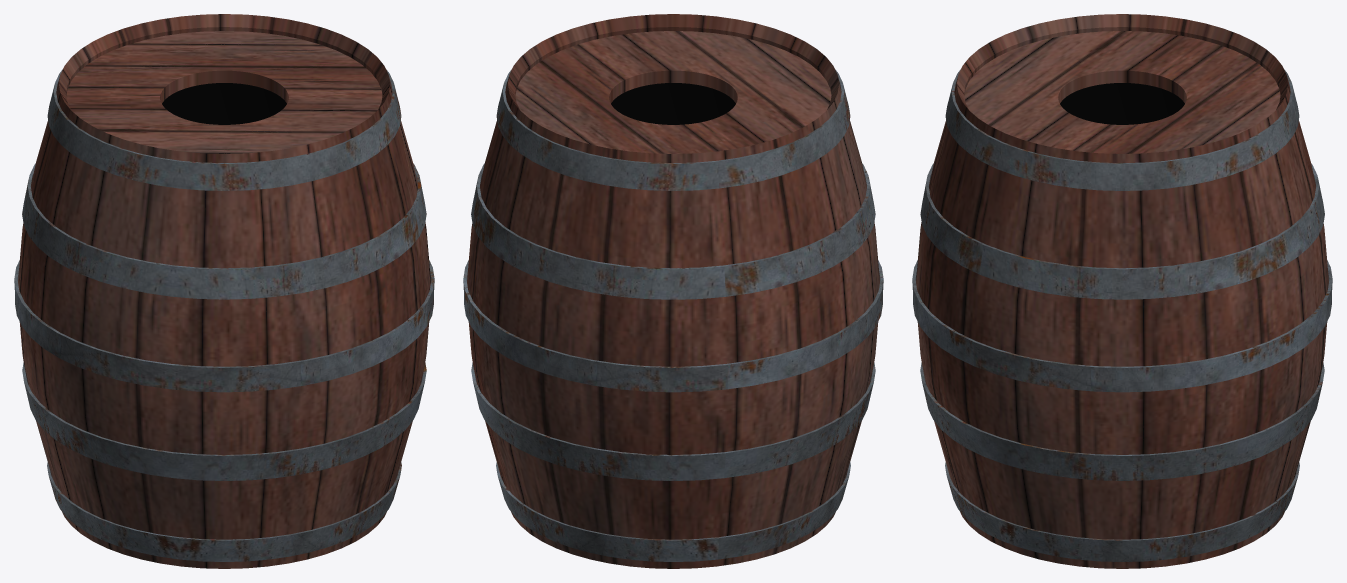
File: barrel.gltf
3 views of the same model, side by side, from view 1: azimuth 30°, elevation 25°; view 2: azimuth 150°, elevation 25°; view 3: azimuth 270°, elevation 25° (orthographic).
Visible parts, largest first — view 1: barrel; view 2: barrel; view 3: barrel.
Boxes of the visible parts, left/top/right/bottom form: barrel: left=14, top=14, right=434, bottom=568; barrel: left=463, top=14, right=883, bottom=568; barrel: left=912, top=14, right=1332, bottom=568.
Size of the model in its own units: 0.9855 by 1.07 by 0.9855.
Materials: 3 (2 with a texture image).
